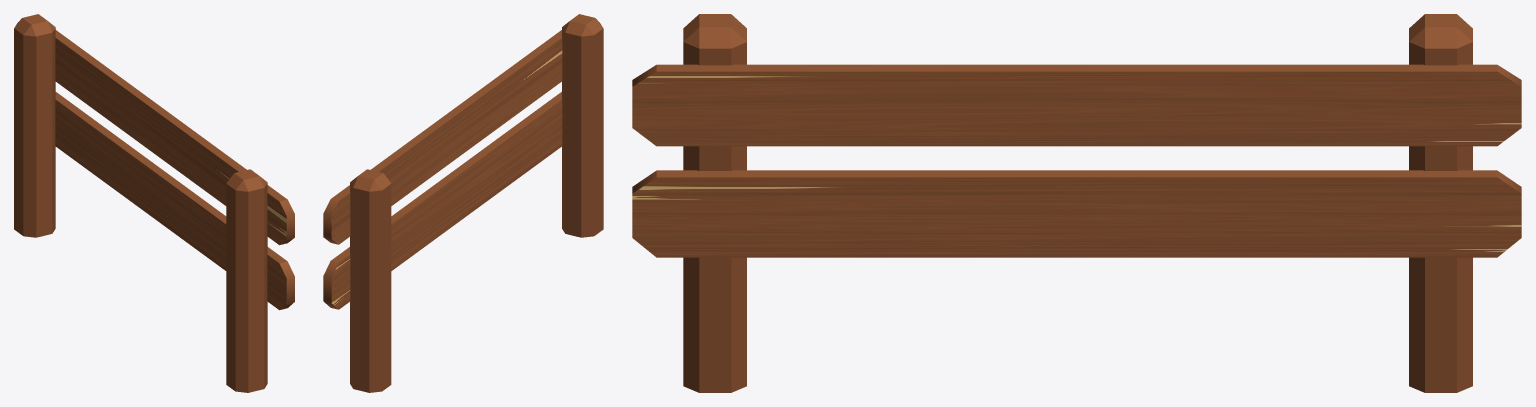
Rendered from saku_wood.fbx.
The picture shows the model from 3 angles, left to right: view 1: azimuth 30°, elevation 25°; view 2: azimuth 150°, elevation 25°; view 3: azimuth 270°, elevation 25°; orthographic projection. The views are drawn at different scales.
Visible parts, largest first — view 1: saku2; view 2: saku2; view 3: saku2.
Boxes of the visible parts, x1=… form: saku2: x1=14, y1=14, x2=294, y2=392; saku2: x1=323, y1=14, x2=603, y2=392; saku2: x1=632, y1=14, x2=1521, y2=392.
Size of the model in its own units: 0.1692 by 0.853 by 1.92.
Materials: 1 (1 with a texture image).
